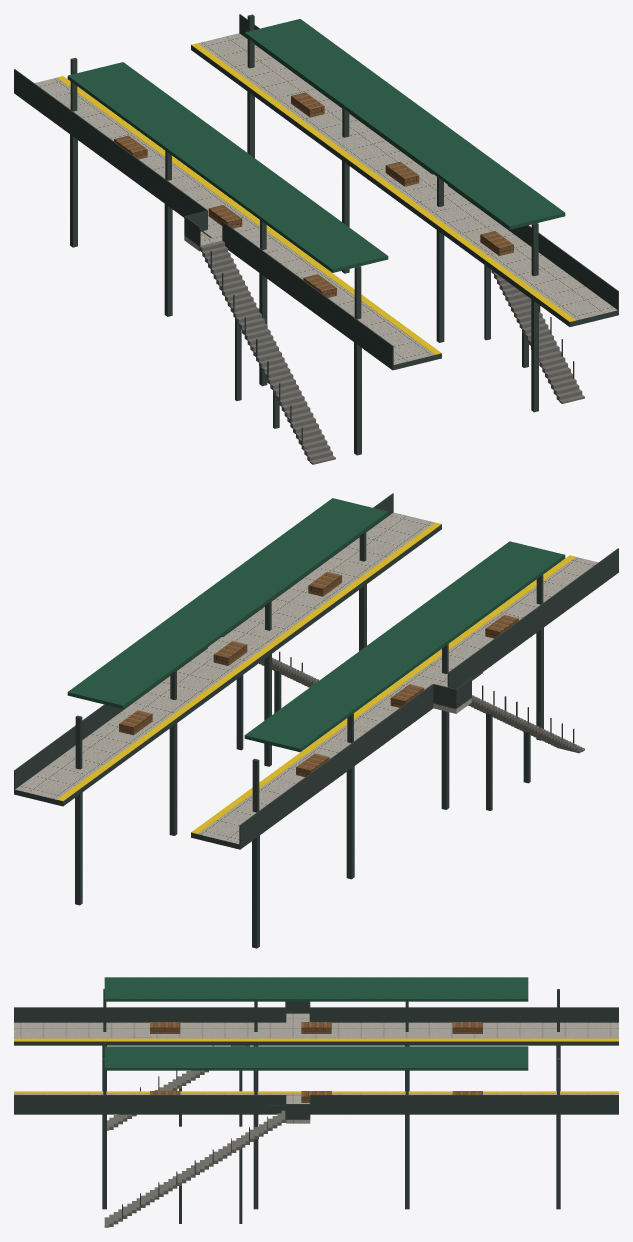
Rendered from l_station.glb.
The picture shows the model from 3 angles, top to bottom: view 1: azimuth 30°, elevation 25°; view 2: azimuth 150°, elevation 25°; view 3: azimuth 270°, elevation 25°; orthographic projection. The views are drawn at different scales.
Parts seen in each view (by area): view 1: l_station; view 2: l_station; view 3: l_station.
Boxes of the visible parts, bbox=[...] form: l_station: bbox=[14, 14, 618, 464]; l_station: bbox=[14, 493, 618, 948]; l_station: bbox=[14, 977, 618, 1227].
Bounding box in the file's own units: 16.6 × 11.1 × 40.
6 materials, 6 textured.
